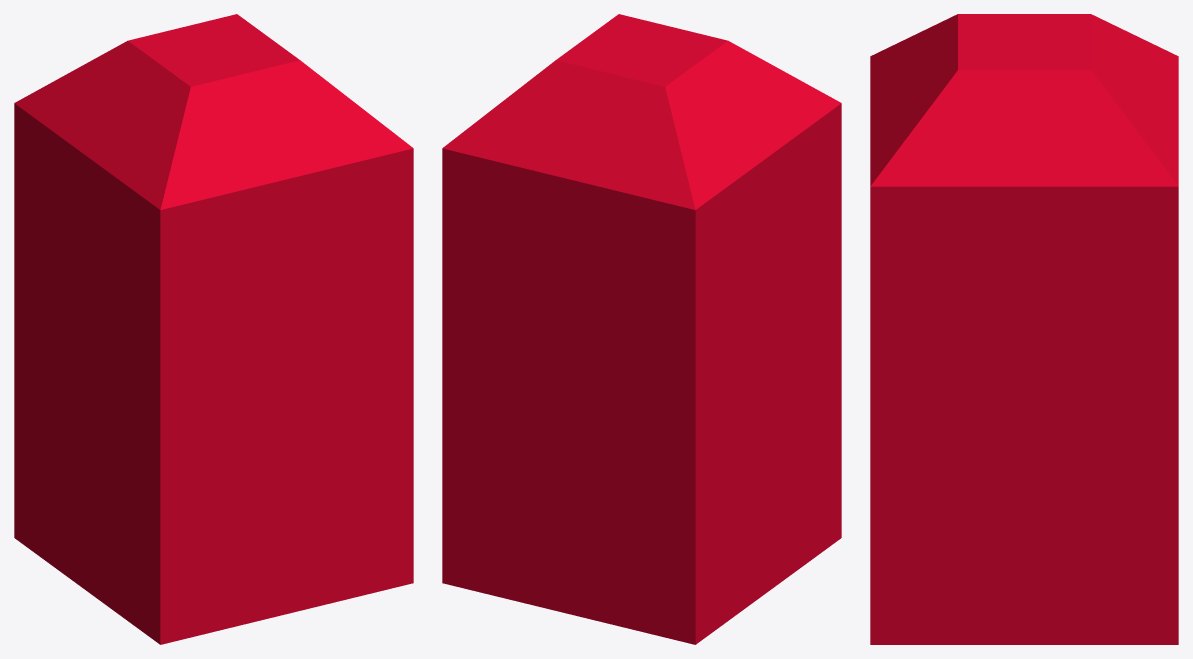
Rendered from hotel.dae.
3 views of the same model, side by side, from view 1: azimuth 30°, elevation 25°; view 2: azimuth 150°, elevation 25°; view 3: azimuth 270°, elevation 25° (orthographic). The views are drawn at different scales.
Parts seen in each view (by area): view 1: House2; view 2: House2; view 3: House2.
Part boxes in pixels (x1=…): House2: x1=14, y1=14, x2=413, y2=644; House2: x1=442, y1=14, x2=841, y2=644; House2: x1=870, y1=14, x2=1178, y2=644.
Size of the model in its own units: 2 by 2 by 3.85.
